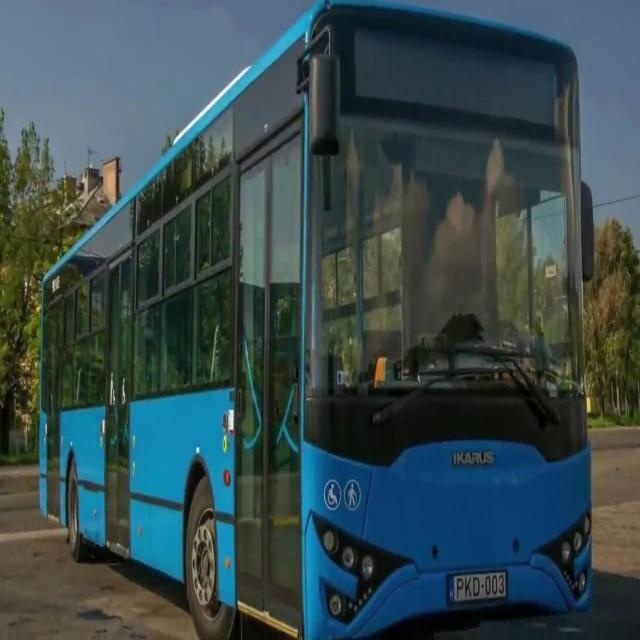Bus: (34, 0, 600, 640)
